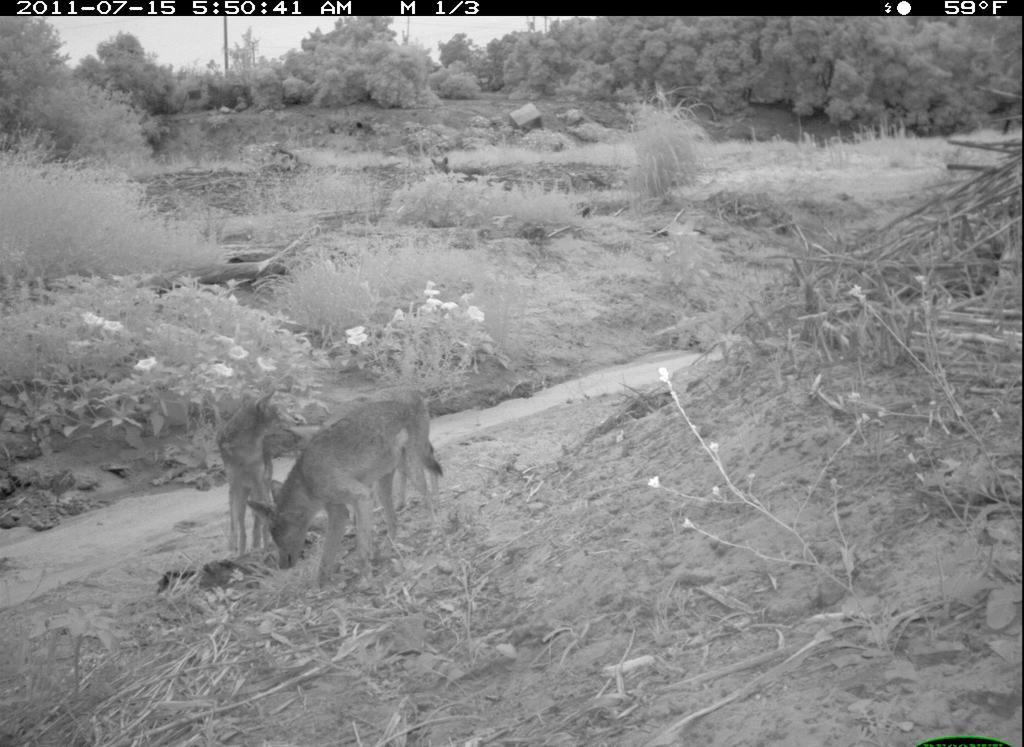coyote: (242, 381, 449, 591), (193, 386, 282, 556)
